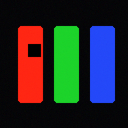1 square: (28, 44, 40, 56)
